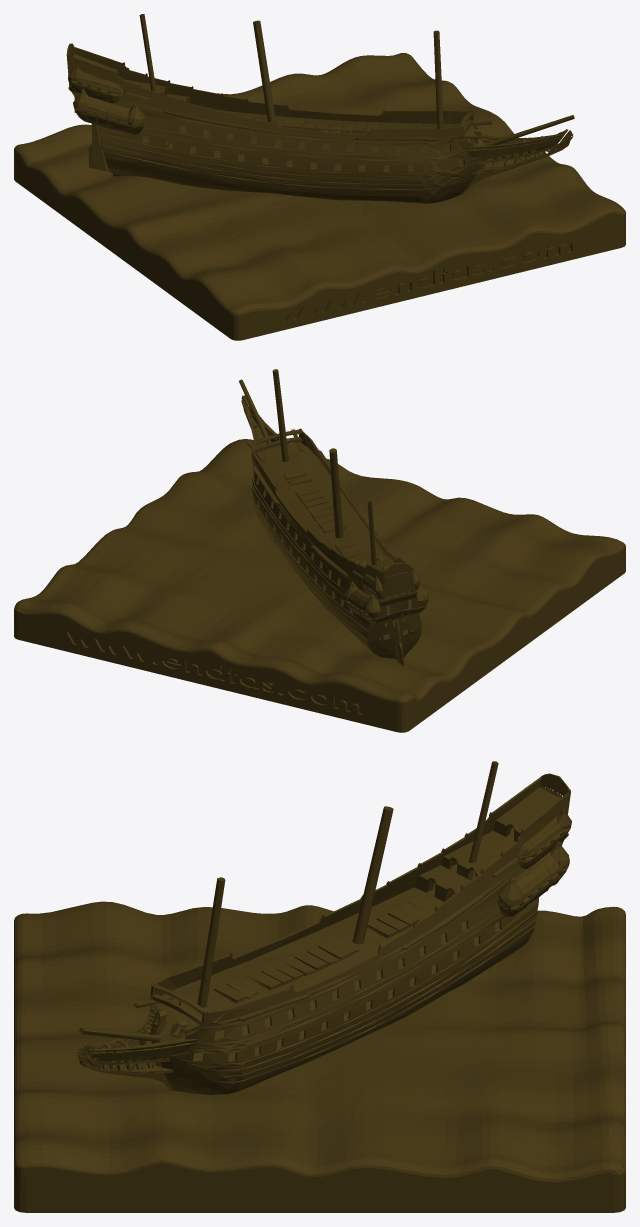
Rendered from Landmark_Sweden.glb.
3 renders of one model, top to bottom at view 1: azimuth 30°, elevation 25°; view 2: azimuth 150°, elevation 25°; view 3: azimuth 270°, elevation 25°, orthographic. The views are drawn at different scales.
Visible parts, largest first — view 1: Vasa_Table_LOW; view 2: Vasa_Table_LOW; view 3: Vasa_Table_LOW.
Part boxes in pixels (box(x1,y1,x2,y2)): Vasa_Table_LOW: box(14, 14, 625, 340); Vasa_Table_LOW: box(14, 369, 625, 732); Vasa_Table_LOW: box(14, 761, 625, 1212).
Size of the model in its own units: 19.84 by 9.03 by 19.54.
